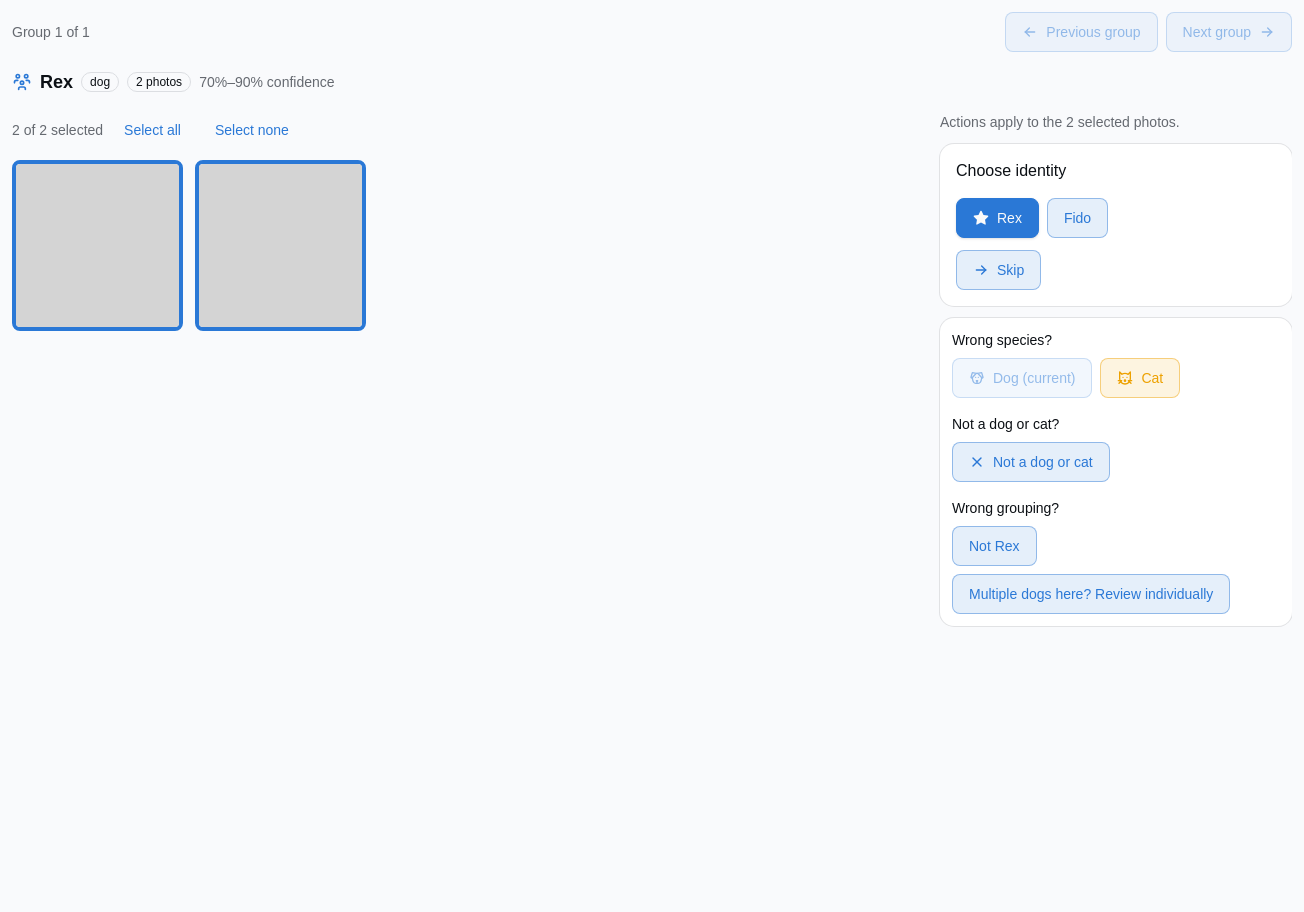
Test case: ReviewGroupedPanel › reassigns the group when choosing a different identity
Click the button "Fido" at {"x": 1078, "y": 218}, box [1047,198,1108,238]
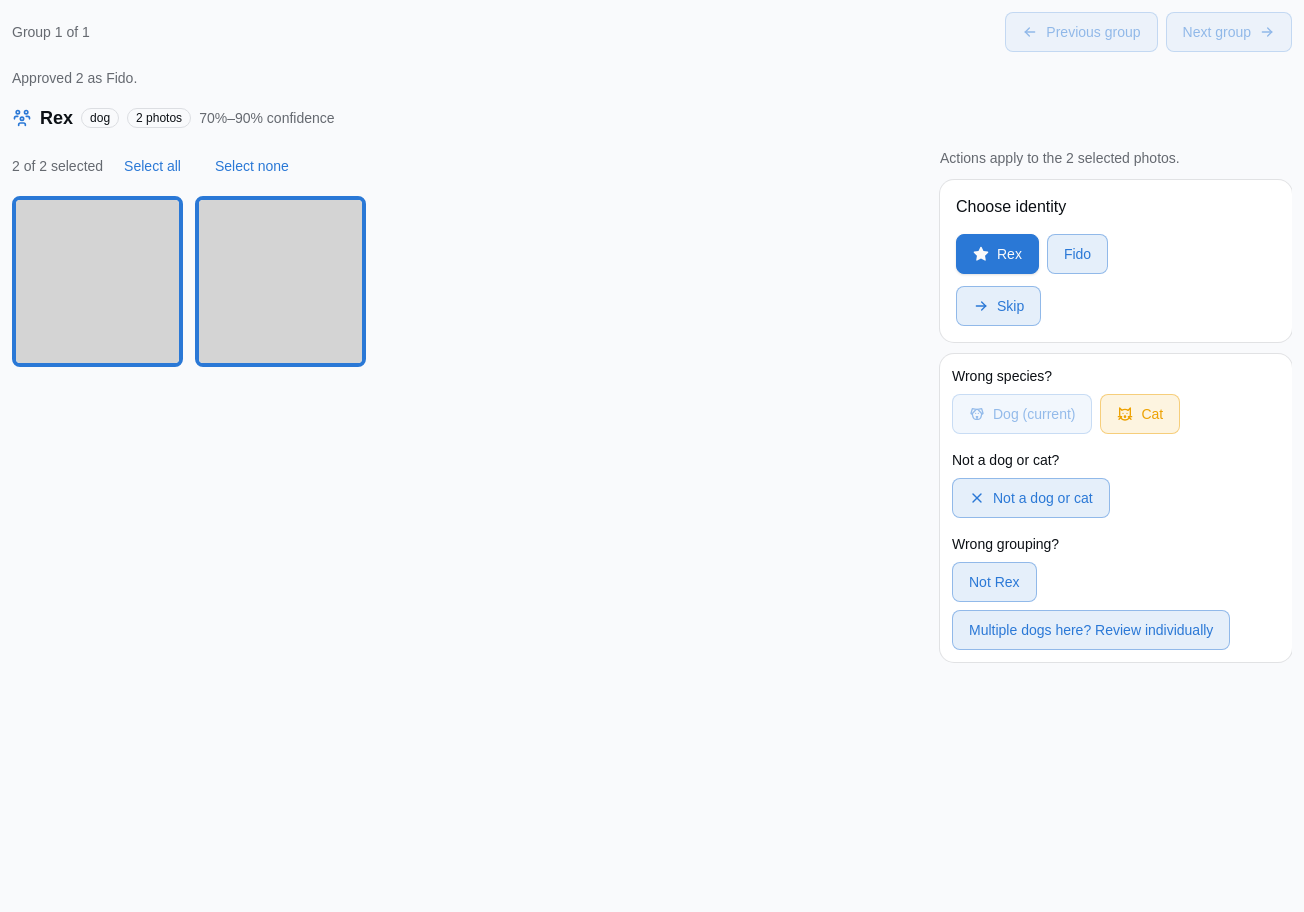
expect the text "Approved 2 as Fido." is shown: met, box [12,70,137,86]
